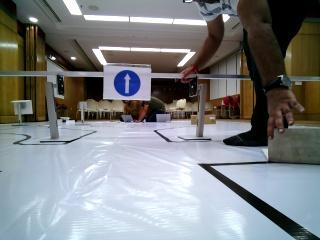straight: (105, 62, 150, 98)
